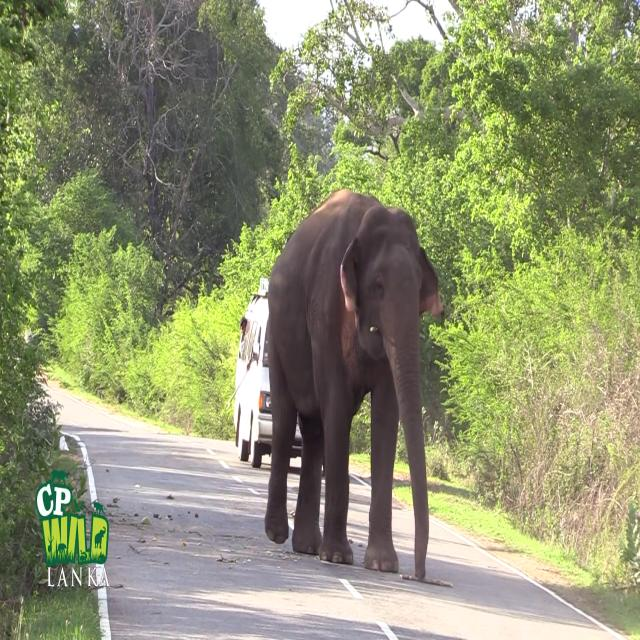Elephant: (264, 187, 444, 580)
